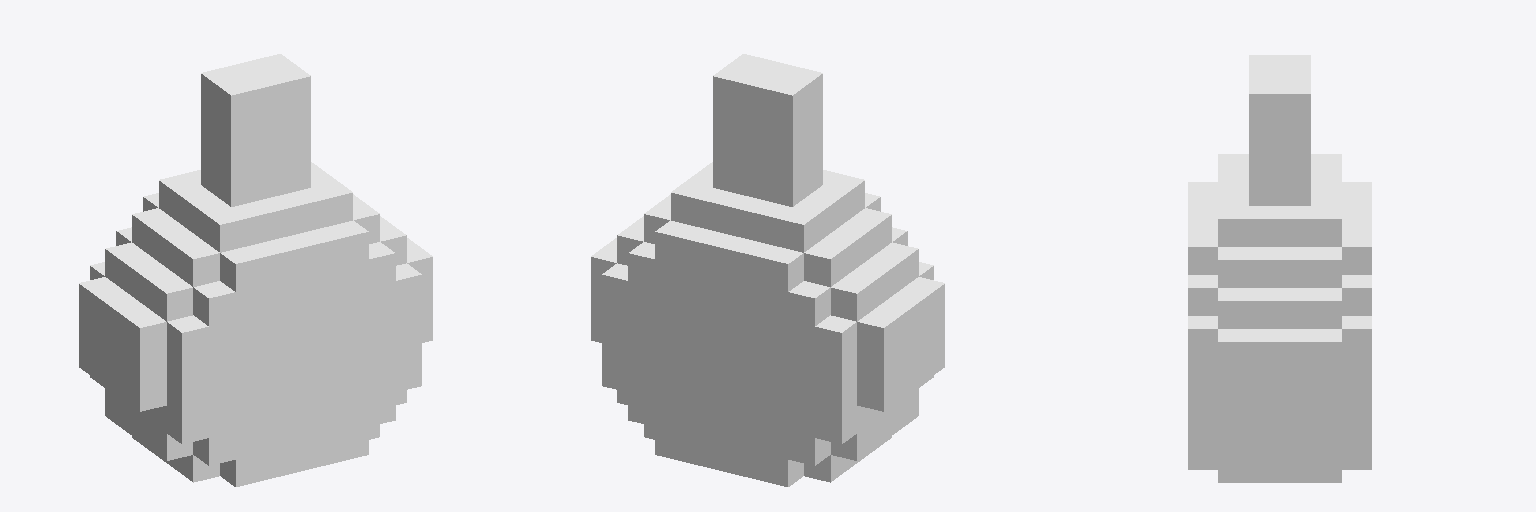
The model's file is bottle01.obj.
The picture shows the model from 3 angles: view 1: azimuth 30°, elevation 25°; view 2: azimuth 150°, elevation 25°; view 3: azimuth 270°, elevation 25°; orthographic projection.
Bounding box in the file's own units: 11 × 13 × 6.